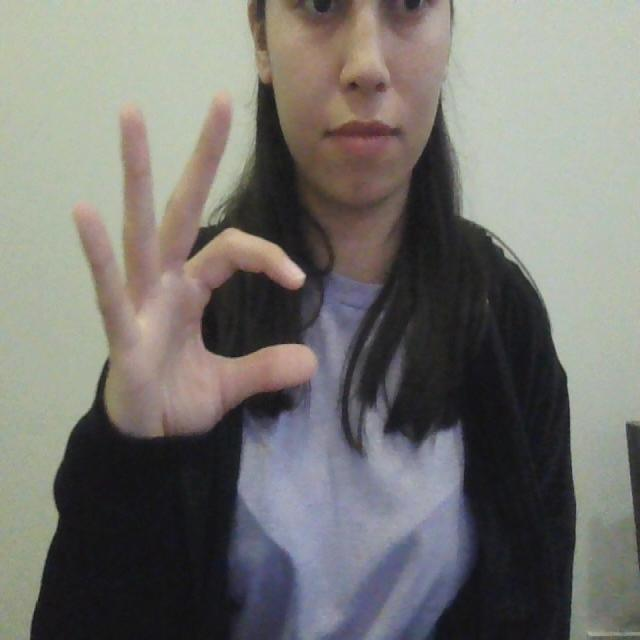Tuvalet: (44, 86, 324, 452)
